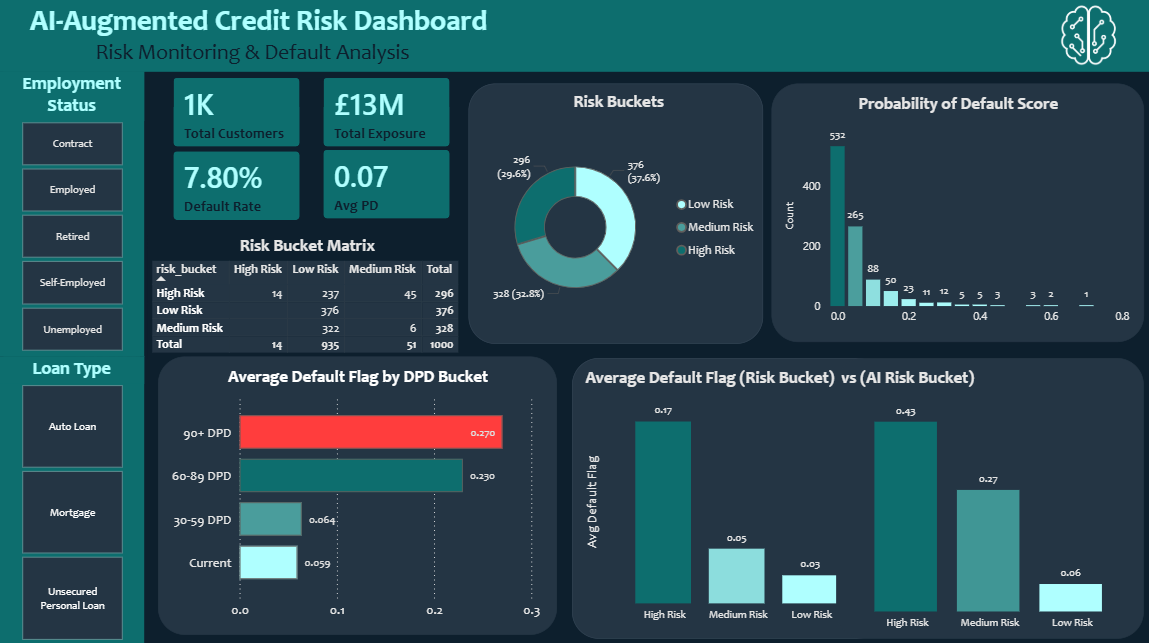

This screenshot's page, from the dashboard's own definition file:
{"tool":"powerbi","page":{"name":"Dashboard","canvas":[1280,720],"ordinal":0},"visuals":[{"type":"donutChart","title":"Risk Buckets","fields":{"Category":["final_credit_risk_output.risk_bucket"],"Y":["final_credit_risk_output.Total Customers"]},"box":[520.9,95.4,327.2,289.1],"z":0},{"type":"clusteredColumnChart","title":"Average Default Flag (Risk Bucket)","fields":{"Category":["final_credit_risk_output.risk_bucket"],"Y":["Avg(final_credit_risk_output.default_flag)"]},"box":[637,399.5,347,312],"z":1000},{"type":"pivotTable","title":"Risk Bucket Matrix","fields":{"Rows":["final_credit_risk_output.risk_bucket"],"Columns":["final_credit_risk_output.ai_risk_bucket"],"Values":["final_credit_risk_output.Total Customers"]},"box":[165.8,262.7,355.1,137.9],"z":2000},{"type":"clusteredBarChart","title":"Average Default Flag by DPD Bucket","fields":{"Category":["final_credit_risk_output.dpd_bucket"],"Y":["Avg(final_credit_risk_output.default_flag)"]},"box":[176.1,399.1,443.2,309.6],"z":3000},{"type":"clusteredColumnChart","title":"vs (AI Risk Bucket)","fields":{"Category":["final_credit_risk_output.ai_risk_bucket"],"Y":["Avg(final_credit_risk_output.default_flag)"]},"box":[930,399.5,342,312],"z":4000},{"type":"columnChart","title":"Probability of Default Score","fields":{"Category":["final_credit_risk_output.pd_score (bins)"],"Y":["final_credit_risk_output.Total Customers"]},"box":[858.4,95.4,413.8,287.6],"z":5000},{"type":"slicer","title":"Employment Status","fields":{"Values":["final_credit_risk_output.employment_status"]},"box":[0,82.2,161.4,317],"z":6000},{"type":"slicer","title":"Loan Type","fields":{"Values":["final_credit_risk_output.loan_type"]},"box":[0,399.1,161.4,321.4],"z":7000},{"type":"cardVisual","fields":{"Data":["final_credit_risk_output.Total Customers"]},"box":[176.1,71.9,189.3,110.1],"z":8000},{"type":"cardVisual","fields":{"Data":["final_credit_risk_output.Default Rate"]},"box":[176.1,152.6,189.3,110.1],"z":9000},{"type":"cardVisual","fields":{"Data":["final_credit_risk_output.Total Exposure"]},"box":[343.4,71.9,189.3,110.1],"z":10000},{"type":"cardVisual","fields":{"Data":["final_credit_risk_output.Avg PD"]},"box":[343.4,151.1,189.3,110.1],"z":11000},{"type":"textbox","box":[0,0,1279.6,82],"z":12000},{"type":"image","box":[1150.5,4.4,121.8,71.9],"z":12001}]}

Visuals, with their boxes in screenshot pixels (x1, y1, x2, y2), scaled from the page's 1280x720 canvas onto the 1149x643 screenshot:
"Risk Buckets" donutChart: {"x1": 468, "y1": 85, "x2": 761, "y2": 343}
"Average Default Flag (Risk Bucket)" clusteredColumnChart: {"x1": 572, "y1": 357, "x2": 883, "y2": 635}
"Risk Bucket Matrix" pivotTable: {"x1": 149, "y1": 235, "x2": 468, "y2": 358}
"Average Default Flag by DPD Bucket" clusteredBarChart: {"x1": 158, "y1": 356, "x2": 556, "y2": 633}
"vs (AI Risk Bucket)" clusteredColumnChart: {"x1": 835, "y1": 357, "x2": 1142, "y2": 635}
"Probability of Default Score" columnChart: {"x1": 771, "y1": 85, "x2": 1142, "y2": 342}
"Employment Status" slicer: {"x1": 0, "y1": 73, "x2": 145, "y2": 357}
"Loan Type" slicer: {"x1": 0, "y1": 356, "x2": 145, "y2": 642}
cardVisual - final_credit_risk_output.Total Customers: {"x1": 158, "y1": 64, "x2": 328, "y2": 163}
cardVisual - final_credit_risk_output.Default Rate: {"x1": 158, "y1": 136, "x2": 328, "y2": 235}
cardVisual - final_credit_risk_output.Total Exposure: {"x1": 308, "y1": 64, "x2": 478, "y2": 163}
cardVisual - final_credit_risk_output.Avg PD: {"x1": 308, "y1": 135, "x2": 478, "y2": 233}
textbox: {"x1": 0, "y1": 0, "x2": 1148, "y2": 73}
image: {"x1": 1033, "y1": 4, "x2": 1142, "y2": 68}
